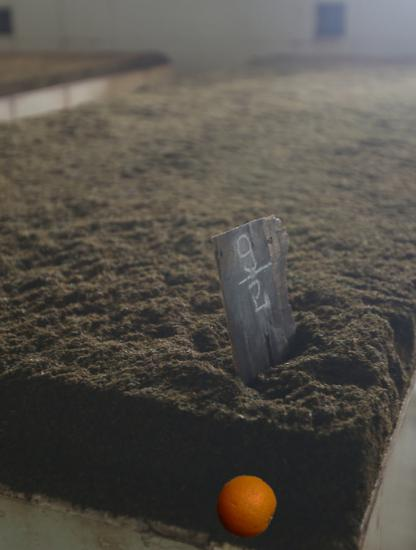Orange: (214, 475, 278, 539)
